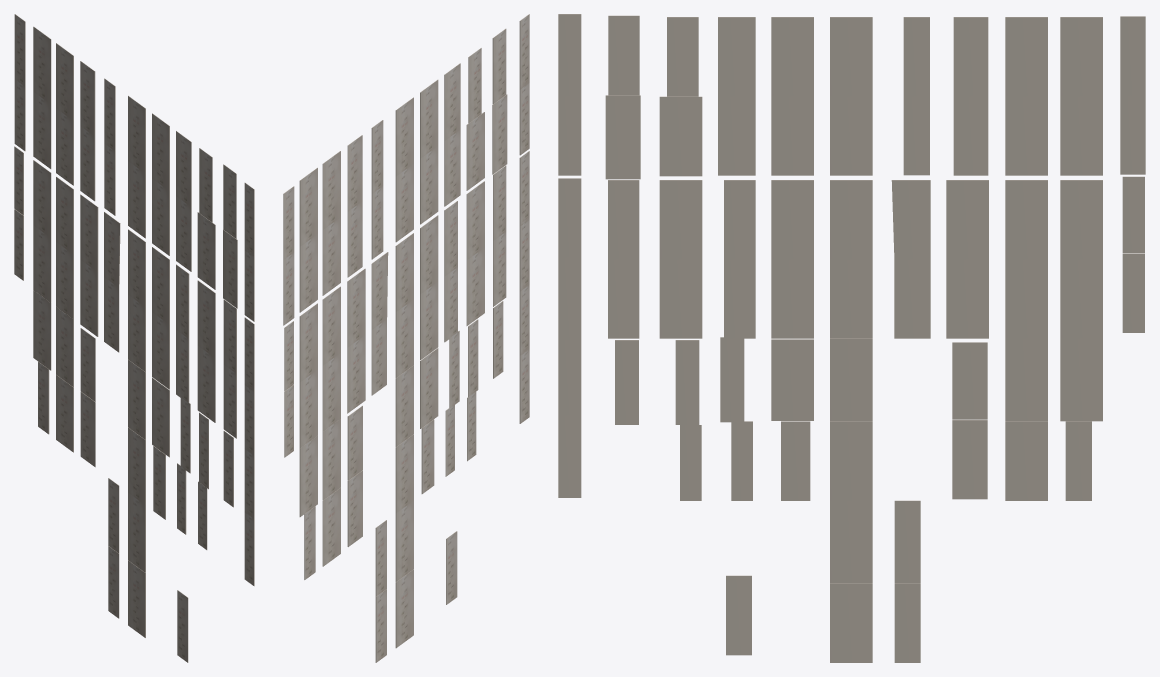
The picture shows the model from 3 angles, left to right: view 1: azimuth 30°, elevation 25°; view 2: azimuth 150°, elevation 25°; view 3: azimuth 270°, elevation 25°; orthographic projection. The views are drawn at different scales.
Parts seen in each view (by area): view 1: Plane005; view 2: Plane005; view 3: Plane005.
Boxes of the visible parts, box(x1,y1,x2,y2) form: Plane005: box(14, 14, 254, 662); Plane005: box(283, 14, 529, 662); Plane005: box(558, 14, 1145, 662).
Size of the model in its own units: 0.6001 by 97.64 by 80.32.
Materials: 1 (1 with a texture image).
